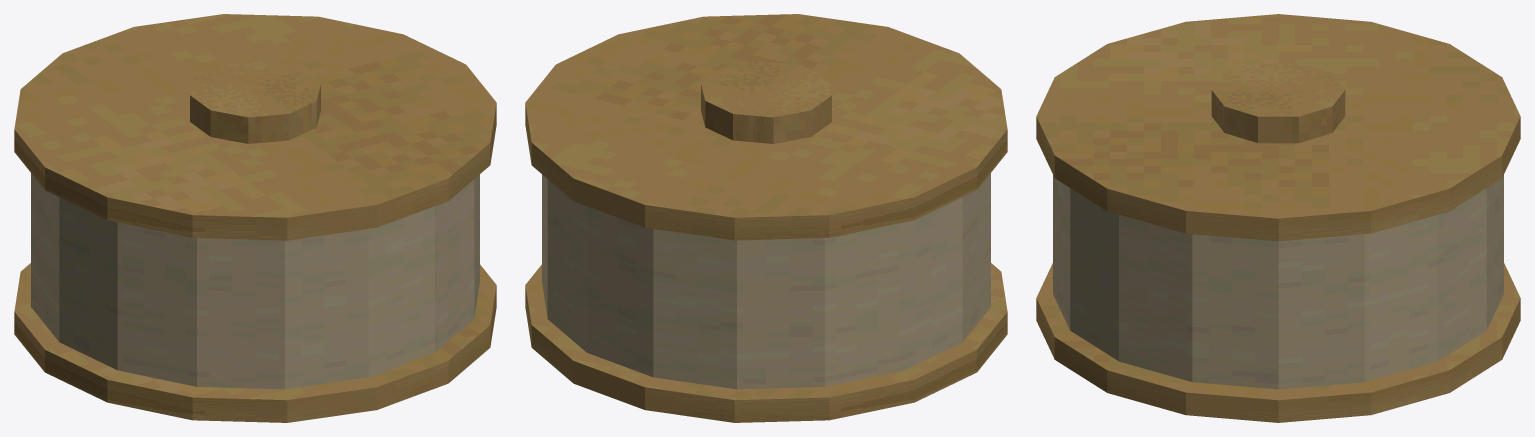
File: register_spool.glb
3 views of the same model, side by side, from view 1: azimuth 30°, elevation 25°; view 2: azimuth 150°, elevation 25°; view 3: azimuth 270°, elevation 25° (orthographic).
Visible parts, largest first — view 1: register_spool; view 2: register_spool; view 3: register_spool.
Boxes of the visible parts, box(x1,y1,x2,y2) form: register_spool: box(14, 14, 496, 422); register_spool: box(525, 14, 1007, 422); register_spool: box(1036, 14, 1520, 422).
Bounding box in the file's own units: 0.058 × 0.034 × 0.058.
Materials: 2 (2 with a texture image).
